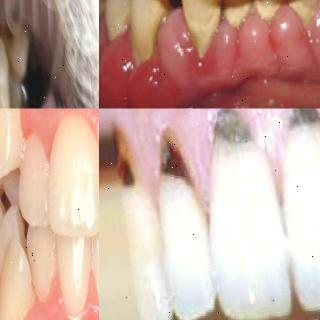Gum Swelling: (99, 26, 245, 97), (247, 16, 320, 74)
calculus: (131, 0, 165, 72), (183, 0, 221, 55), (248, 0, 281, 38), (103, 0, 129, 41), (290, 0, 320, 34), (220, 0, 246, 39), (99, 0, 107, 33)
cavities: (206, 115, 258, 151), (112, 138, 136, 186), (158, 144, 188, 178), (287, 108, 320, 134), (3, 17, 16, 53)
maligned: (0, 245, 38, 320), (0, 207, 34, 281), (0, 108, 27, 176), (0, 152, 26, 206)
